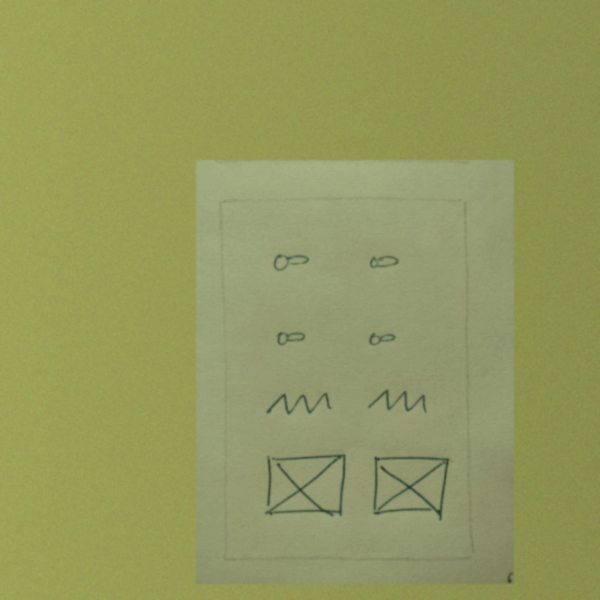image: (255, 450, 350, 521), (367, 450, 455, 525)
switch: (268, 244, 314, 277), (362, 248, 409, 275), (270, 322, 312, 352), (360, 324, 405, 351)
text: (360, 380, 437, 421), (260, 384, 338, 419)
